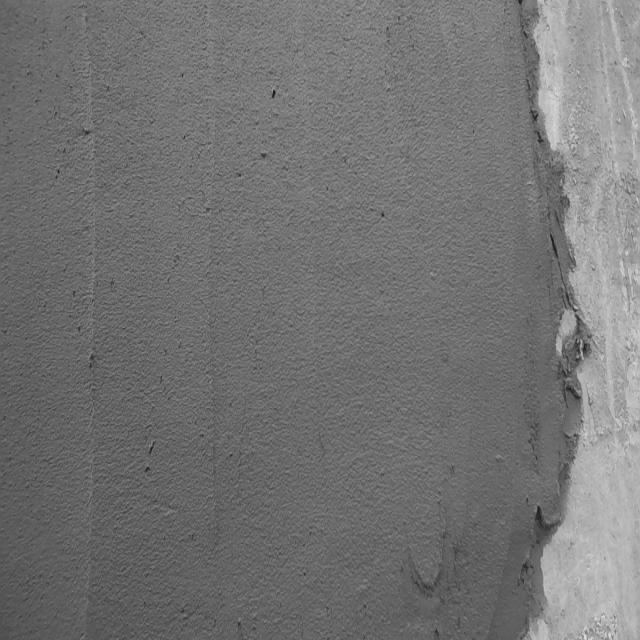trowels marks: (85, 60, 99, 588)
